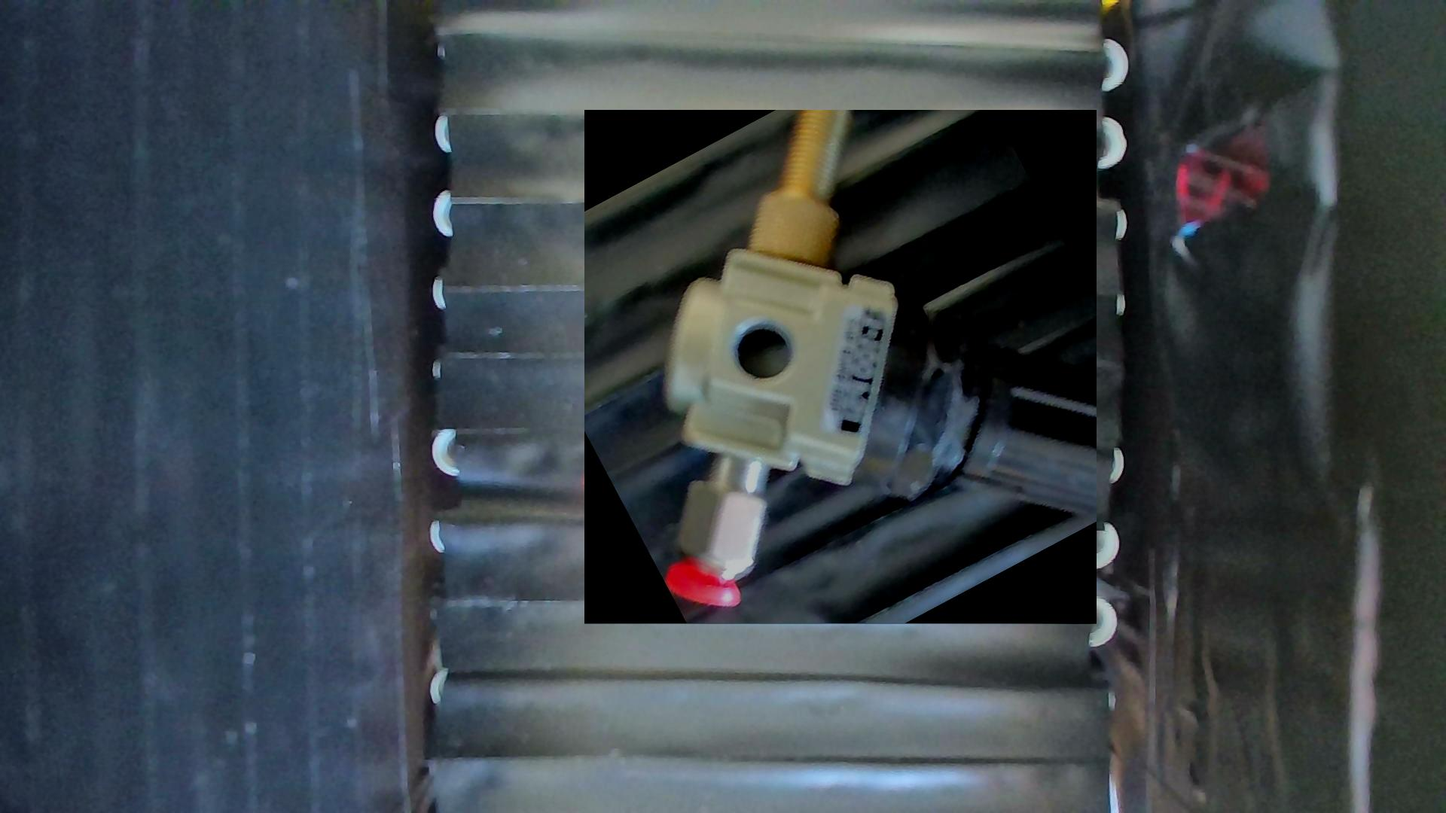regulator: (584, 111, 1096, 625)
